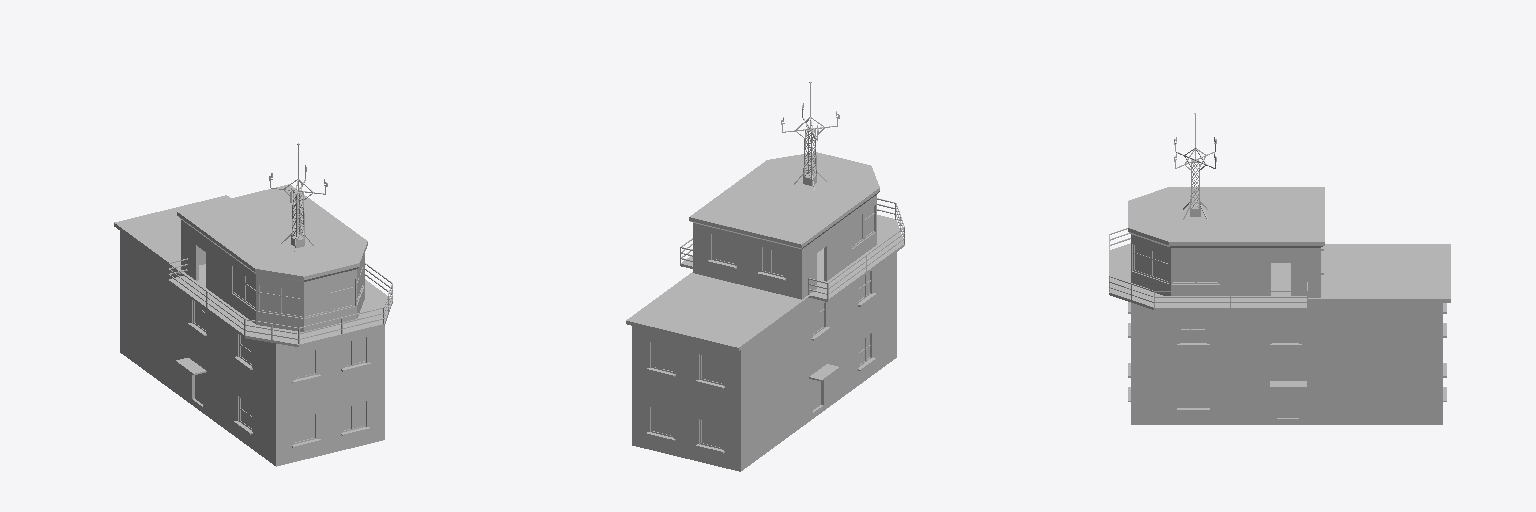
The model's file is tower_noD.obj.
3 renders of one model, left to right at view 1: azimuth 30°, elevation 25°; view 2: azimuth 150°, elevation 25°; view 3: azimuth 270°, elevation 25°, orthographic.
Visible parts, largest first — view 1: tower, tower.001; view 2: tower.001, tower; view 3: tower, tower.001.
Part boxes in pixels (bbox=[...]): tower: bbox=[115, 144, 392, 464]; tower.001: bbox=[114, 143, 392, 466]; tower.001: bbox=[626, 82, 904, 464]; tower: bbox=[626, 82, 904, 471]; tower: bbox=[1109, 113, 1450, 424]; tower.001: bbox=[1109, 113, 1450, 424].
Size of the model in its own units: 8.43 by 15.55 by 16.88.